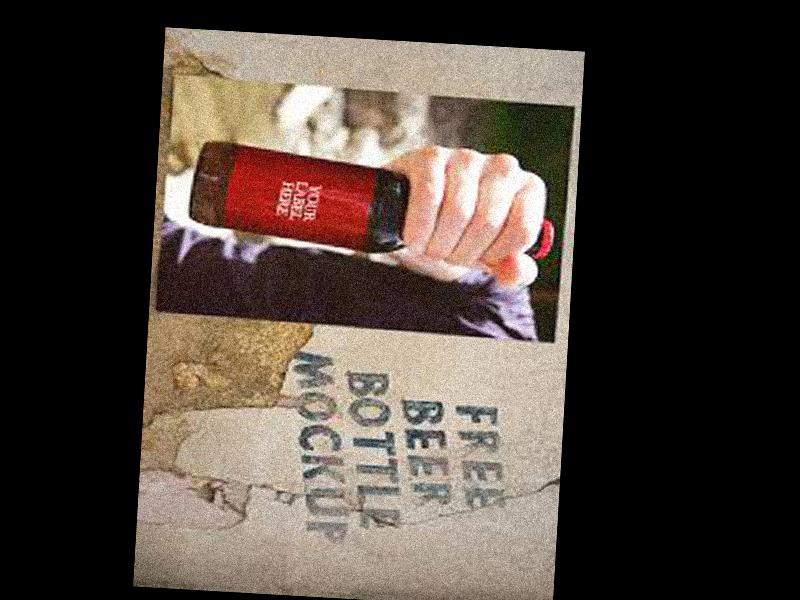Beer: (187, 139, 557, 260)
